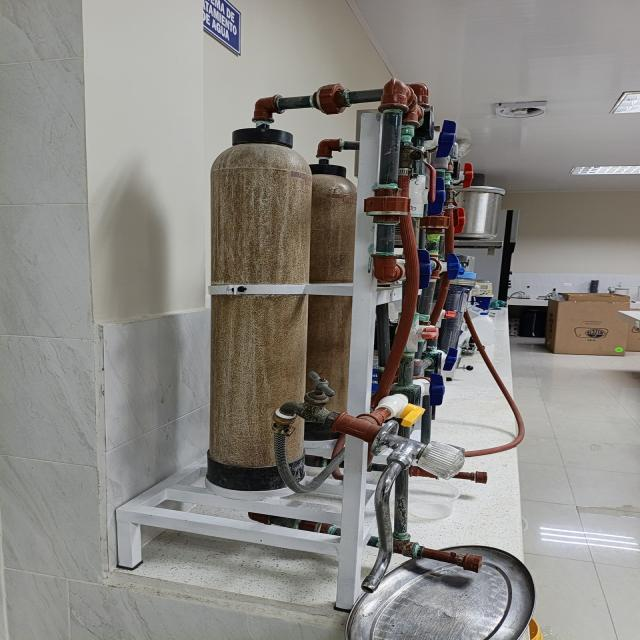Sistema de Tratamiento y Desionizacion deAgua: (116, 78, 481, 610)
